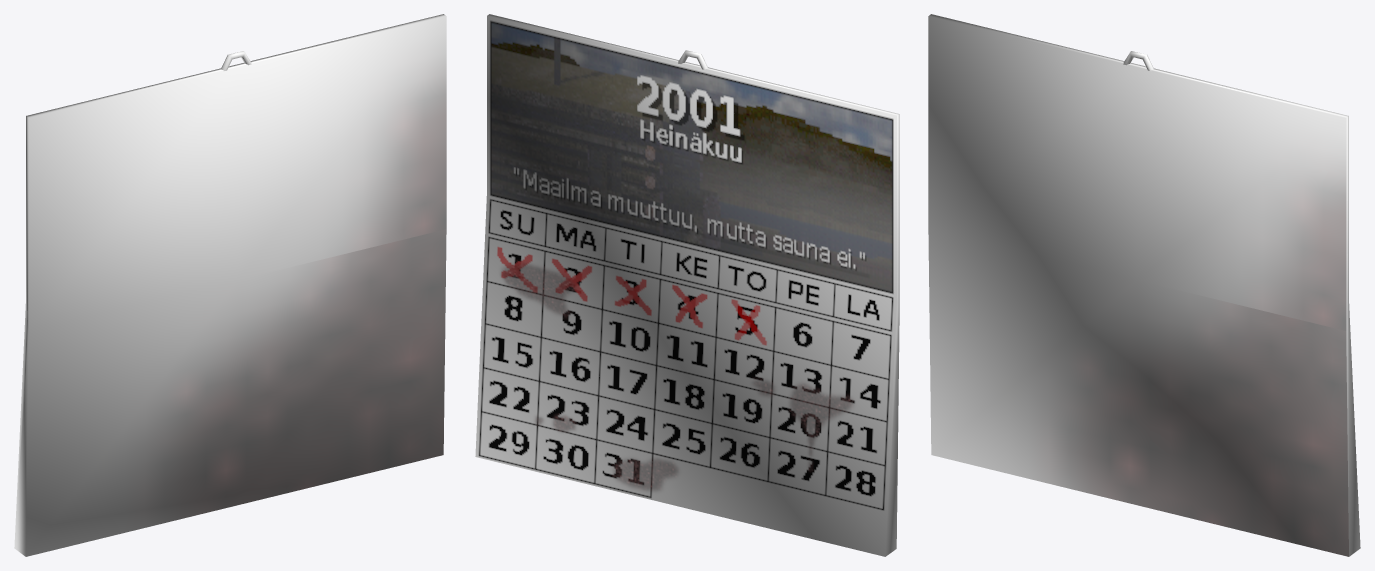
Rendered from calendar.fbx.
The picture shows the model from 3 angles, left to right: view 1: azimuth 30°, elevation 25°; view 2: azimuth 150°, elevation 25°; view 3: azimuth 330°, elevation 25°; orthographic projection.
Visible parts, largest first — view 1: Plane; view 2: Plane; view 3: Plane.
Boxes of the visible parts, box(x1,y1,x2,y2) form: Plane: box(14, 14, 446, 556); Plane: box(475, 14, 899, 556); Plane: box(928, 14, 1360, 556).
Size of the model in its own units: 200 by 208 by 12.03.
1 material, 1 textured.
